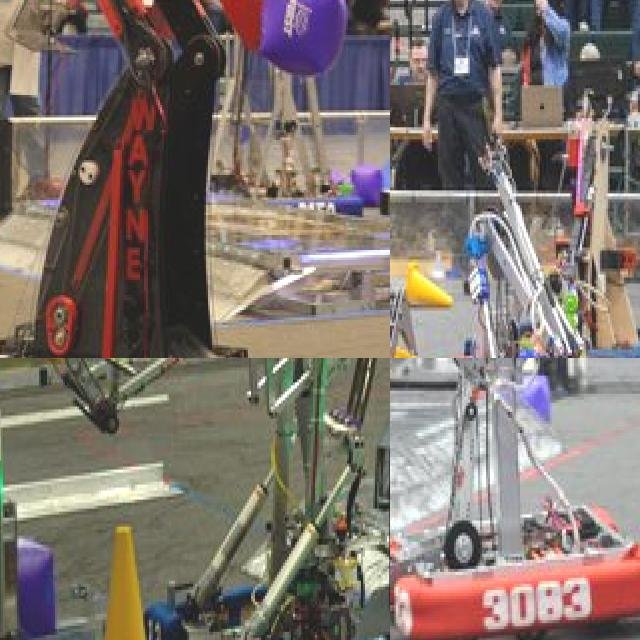FRC-Robots: (0, 0, 344, 358), (4, 358, 390, 640), (390, 358, 640, 640), (405, 123, 639, 358), (532, 102, 640, 358)
